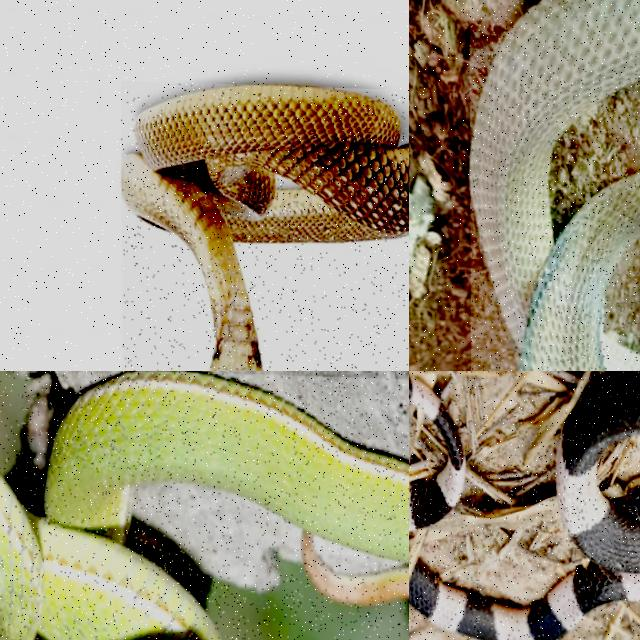Bungarus candidus: (409, 371, 639, 639)
Naja kaouthia: (122, 85, 408, 370)
Naja siamensis: (470, 0, 639, 370)
Trimeresurus: (0, 371, 408, 639)
